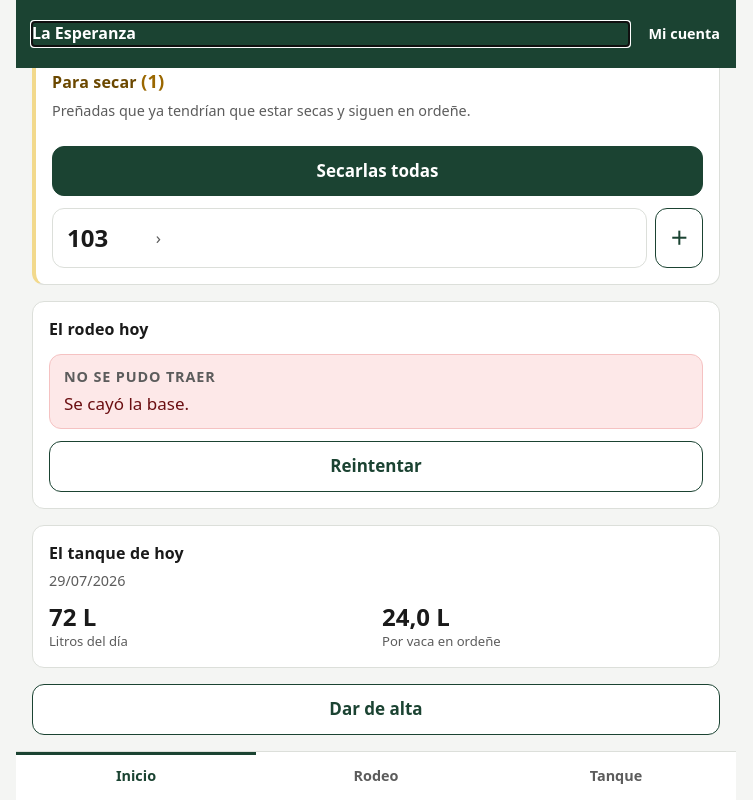
Test: cuando una lectura no vuelve › la tarjeta caída no se lleva puesta la pantalla, y se puede reintentar
This screenshot has width=753, height=800.
(page scrolled)
Expected: the text "Se cayó la base." is shown, [64,392,189,414]
Click the button "Reintentar": {"x": 376, "y": 466} [49,441,703,492]
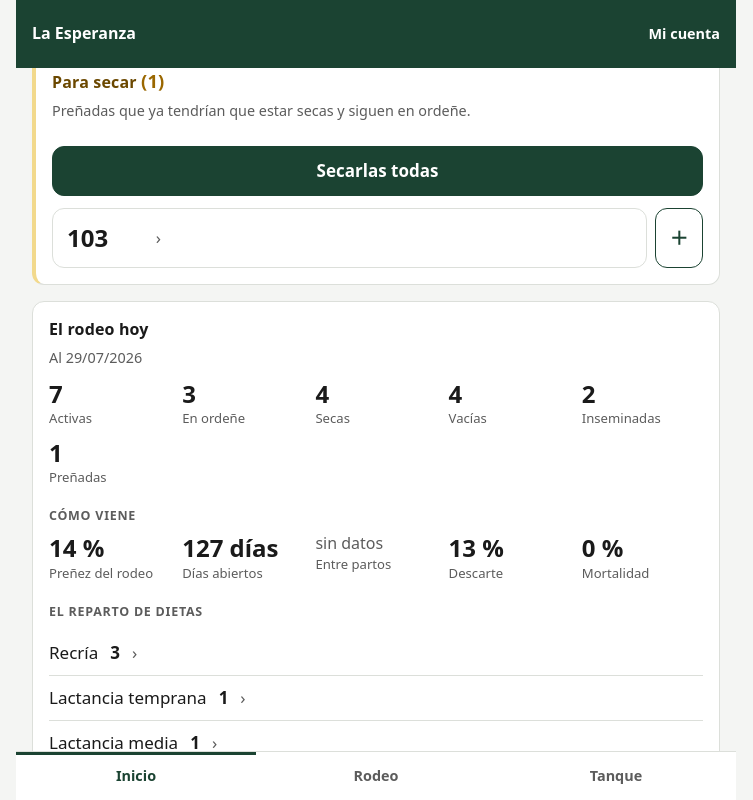
Expected: the text "Preñez del rodeo" is shown, [49,564,170,583]
